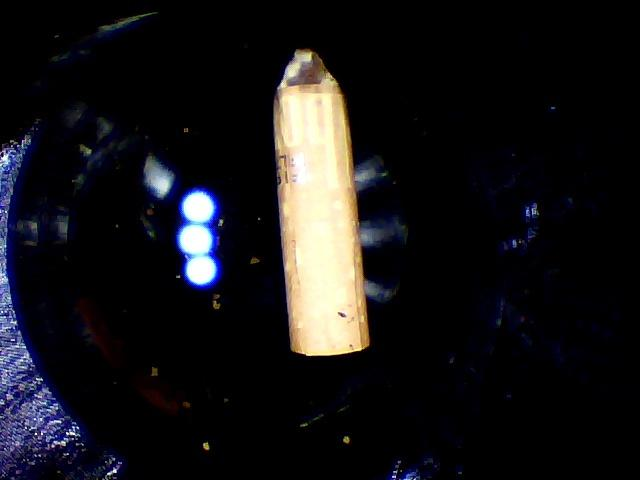megot: (258, 43, 376, 355)
